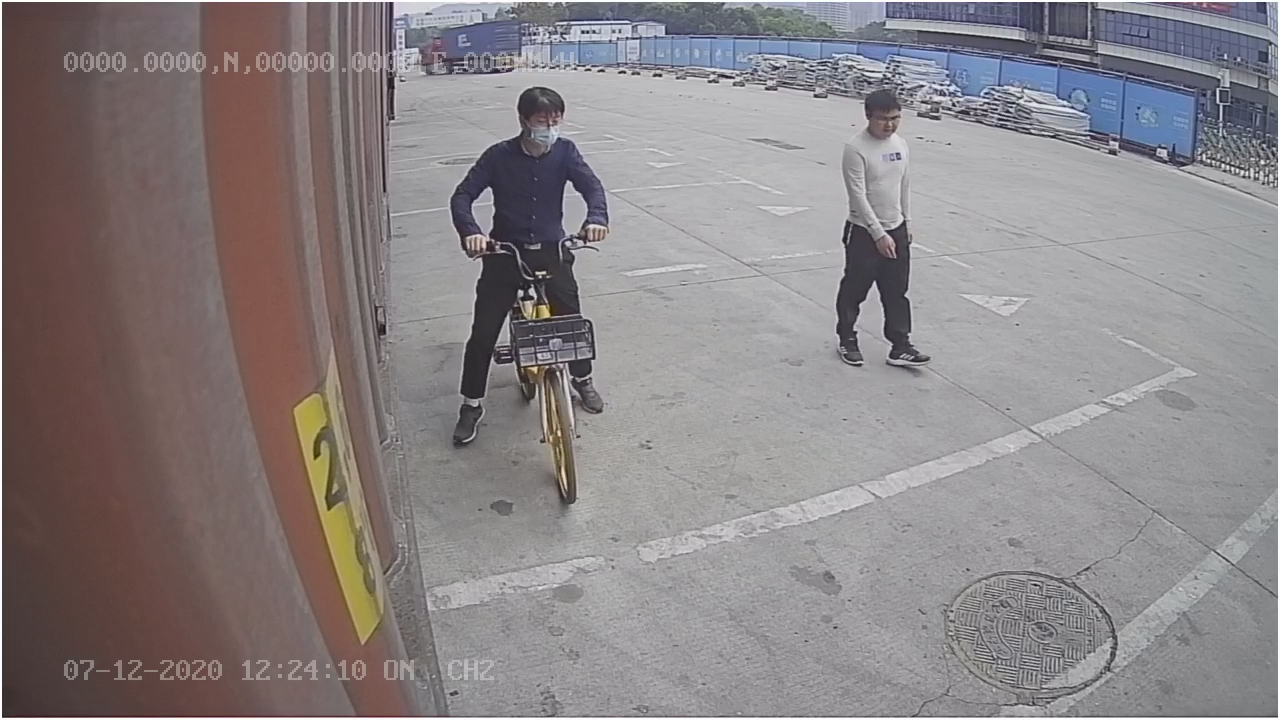person: (831, 82, 936, 373)
